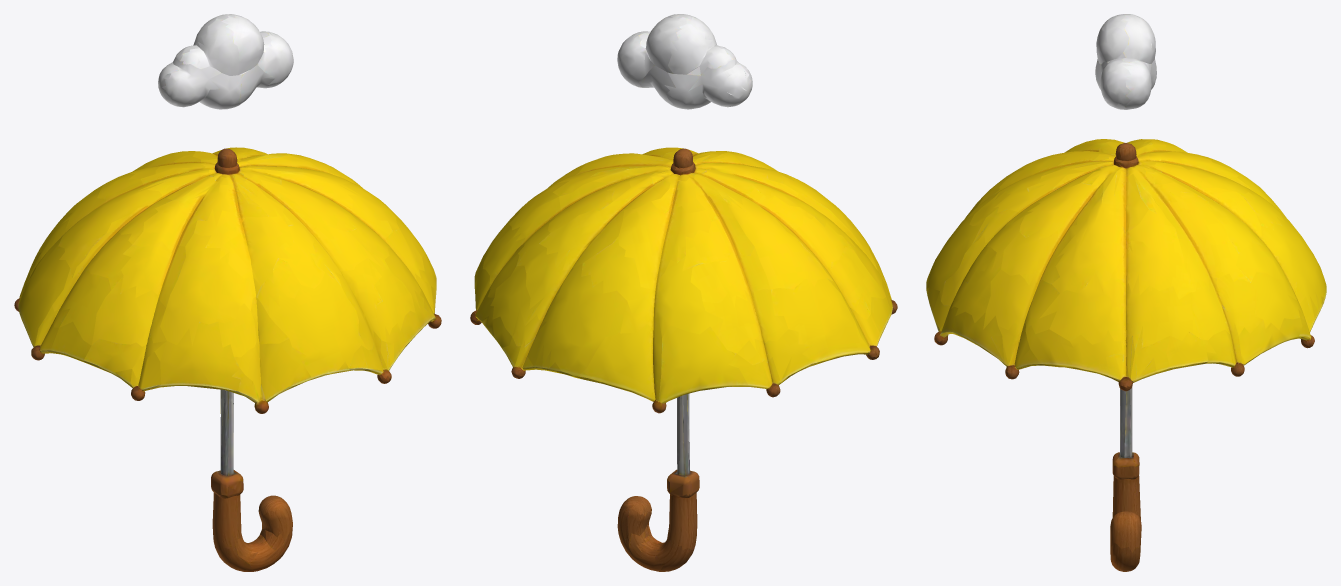
File: cloud_umbrella.glb
The picture shows the model from 3 angles, left to right: view 1: azimuth 30°, elevation 25°; view 2: azimuth 150°, elevation 25°; view 3: azimuth 270°, elevation 25°; orthographic projection. The views are drawn at different scales.
Visible parts, largest first — view 1: Mesh_0; view 2: Mesh_0; view 3: Mesh_0.
Part boxes in pixels (box(x1,y1,x2,y2)): Mesh_0: box(14, 14, 441, 571); Mesh_0: box(470, 14, 897, 571); Mesh_0: box(926, 14, 1326, 571).
Size of the model in its own units: 0.7321 by 1 by 0.6737.
1 material, 1 textured.
